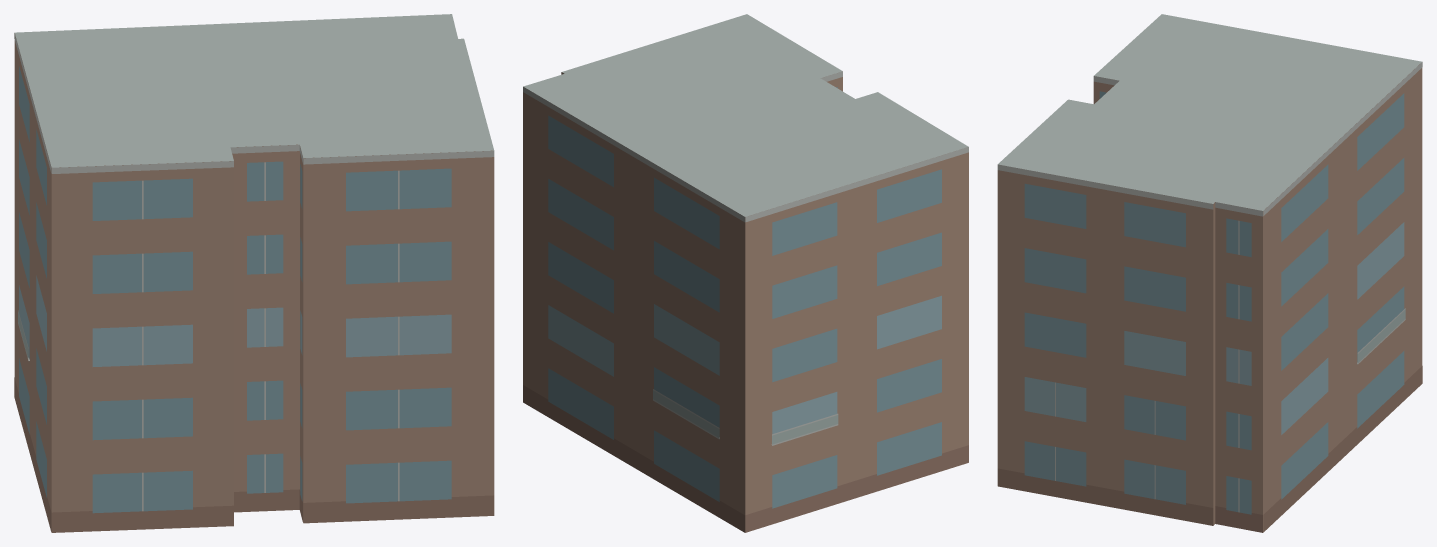
Rendered from survey-upis-32926088.glb.
3 renders of one model, left to right at view 1: azimuth 30°, elevation 25°; view 2: azimuth 150°, elevation 25°; view 3: azimuth 270°, elevation 25°, orthographic. The views are drawn at different scales.
Visible parts, largest first — view 1: survey-upis-32926088.tmp; view 2: survey-upis-32926088.tmp; view 3: survey-upis-32926088.tmp.
Part boxes in pixels (x1,y1,x2,y2): survey-upis-32926088.tmp: (14,14,494,532); survey-upis-32926088.tmp: (523,14,968,532); survey-upis-32926088.tmp: (997,14,1422,532).
Bounding box in the file's own units: 18.25 × 13.9 × 16.64.
